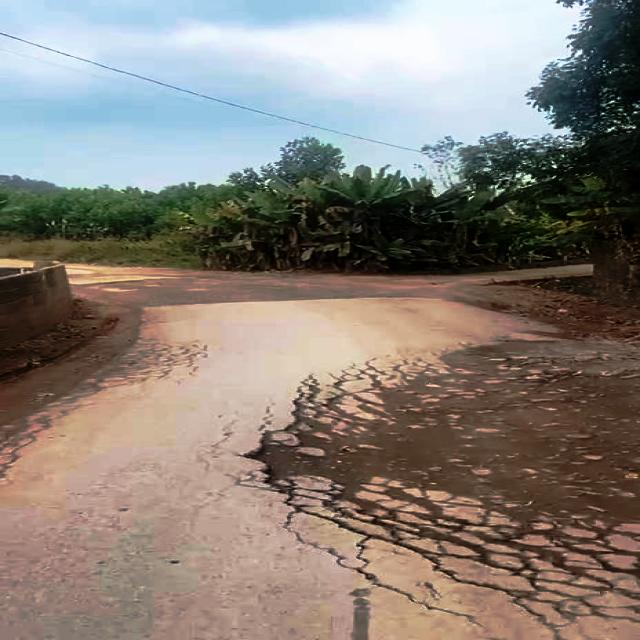pothole: (237, 333, 640, 578)
